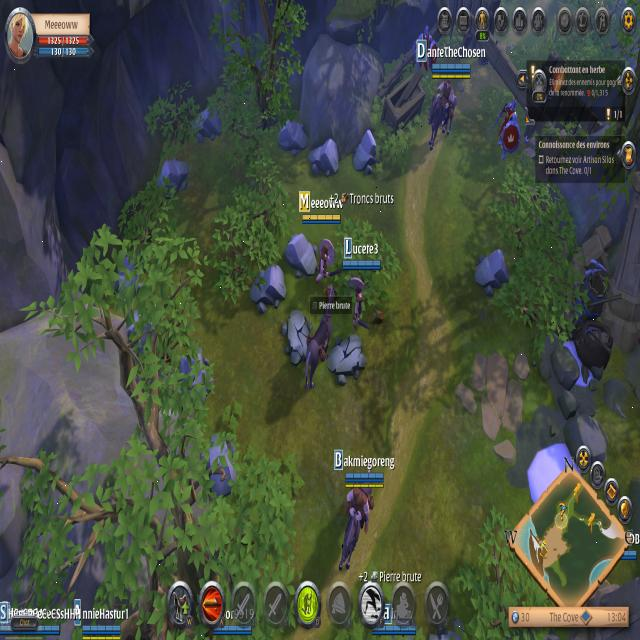broken stone: (326, 332, 367, 386), (282, 306, 311, 366)
stone: (202, 431, 238, 500), (250, 257, 287, 317), (176, 349, 212, 407), (471, 245, 511, 296), (285, 229, 318, 280), (351, 128, 382, 180), (308, 137, 340, 183), (278, 114, 310, 160), (158, 155, 190, 198), (191, 102, 224, 143)
